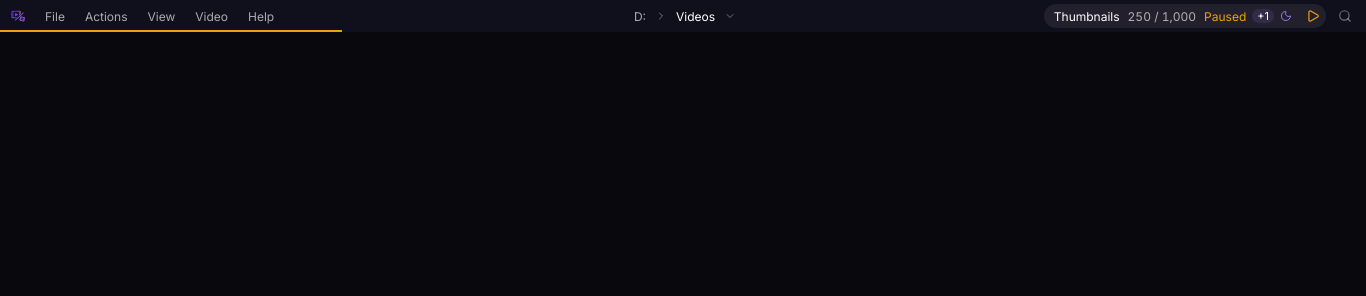
Test: TitleBar › the status opens a panel with every running job, pause and what to do when finished
Check: the icon named "Then sleep" is shown, box [1280,10,1292,22]
Click the button "Thumbnails 250 / 1,000 Paused +1": [1170, 16] box [1044,4,1296,28]
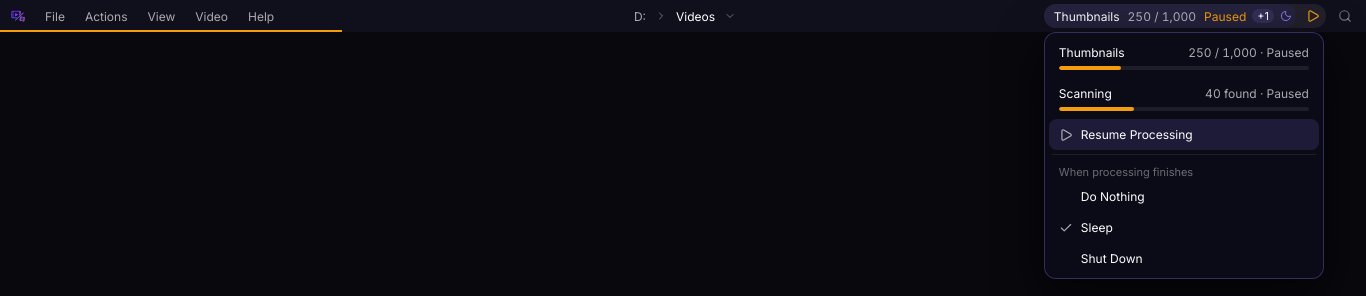
Check: the menu "Processing" shows "40 found", box [1205,86,1309,101]
Check: the menu item "Resume Processing" is shown, box [1049,119,1319,150]
Check: the menu item "Sleep" is shown, box [1049,212,1319,243]
Click the menu item "Shut Down": [1112, 258] box [1049,243,1319,274]
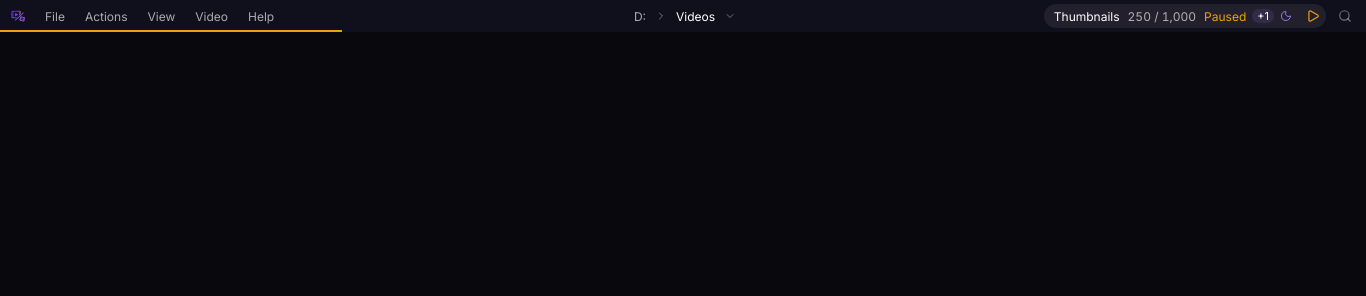
Check: the menu is gone
